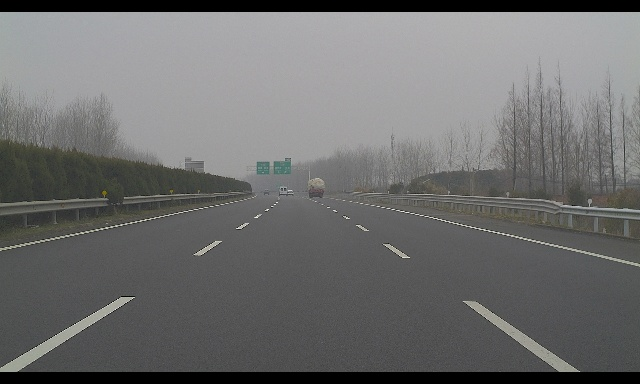car: (278, 186, 288, 196), (287, 190, 294, 196), (264, 189, 269, 195)
truck: (306, 178, 325, 198)
